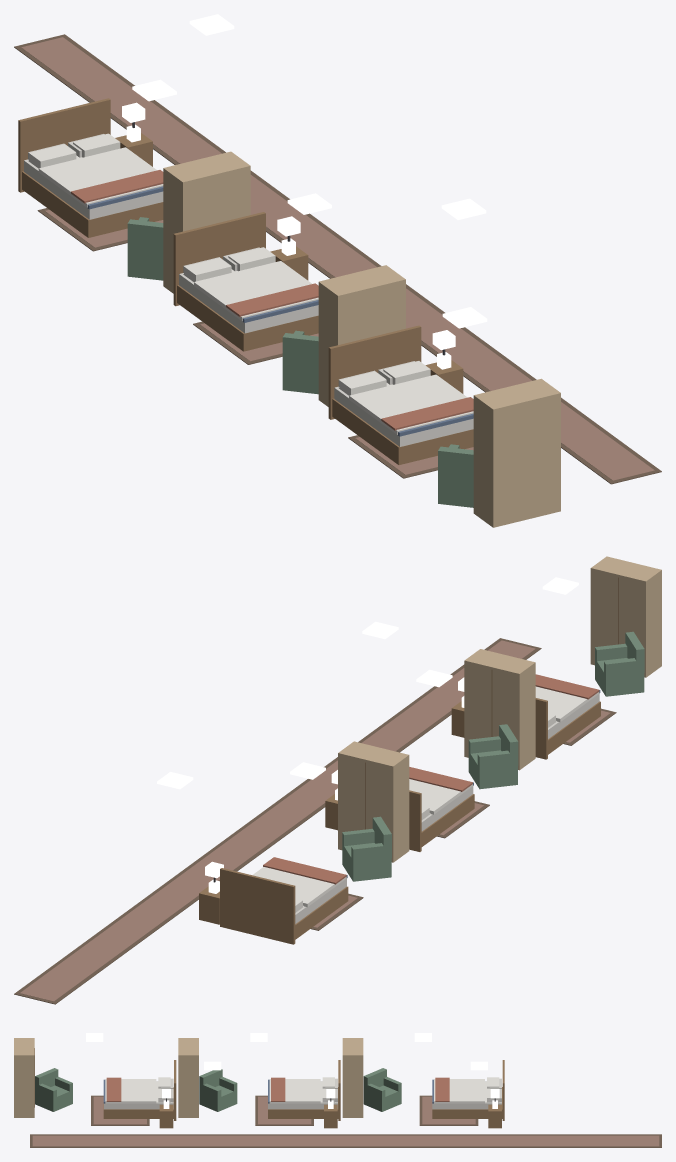
Rendered from fine-s1.glb.
3 views of the same model, one above another, from view 1: azimuth 30°, elevation 25°; view 2: azimuth 150°, elevation 25°; view 3: azimuth 270°, elevation 25° (orthographic). The views are drawn at different scales.
Visible parts, largest first — view 1: soft-s1, dresser.002, bed-frame.002, bed-frame.001, bed-frame.000, dresser.000, dresser.001, lounge-chair.001, lounge-chair.000, lounge-chair.002, nightstand.001, nightstand.002 (+1 smaller); view 2: soft-s1, dresser.002, dresser.000, dresser.001, bed-frame.000, lounge-chair.001, lounge-chair.000, lounge-chair.002, bed-frame.002, bed-frame.001, nightstand.000; view 3: soft-s1, dresser.000, dresser.001, dresser.002, lounge-chair.000, bed-frame.002, lounge-chair.001, lounge-chair.002, bed-frame.001, bed-frame.000, nightstand.002, nightstand.000 (+1 smaller).
Boxes of the visible parts, x1,y1,x2,y2 form: soft-s1: (14, 34, 661, 484); dresser.002: (473, 378, 560, 527); bed-frame.002: (328, 325, 473, 464); bed-frame.001: (173, 212, 318, 351); bed-frame.000: (18, 98, 163, 237); dresser.000: (163, 151, 250, 293); dresser.001: (318, 265, 405, 406); lounge-chair.001: (282, 330, 318, 394); lounge-chair.000: (127, 217, 163, 280); lounge-chair.002: (438, 444, 473, 507); nightstand.001: (270, 238, 308, 280); nightstand.002: (425, 352, 463, 393); soft-s1: (14, 638, 616, 1004); dresser.002: (590, 556, 661, 677); dresser.000: (338, 741, 409, 862); dresser.001: (464, 649, 535, 770); bed-frame.000: (220, 868, 348, 944); lounge-chair.001: (468, 724, 518, 789); lounge-chair.000: (342, 816, 391, 881); lounge-chair.002: (595, 631, 644, 696); bed-frame.002: (535, 690, 600, 759); bed-frame.001: (409, 782, 474, 851); nightstand.000: (199, 879, 219, 924); soft-s1: (30, 1077, 661, 1147); dresser.000: (342, 1038, 363, 1117); dresser.001: (178, 1038, 198, 1117); dresser.002: (14, 1038, 34, 1117); lounge-chair.000: (363, 1068, 401, 1111); bed-frame.002: (103, 1060, 176, 1120); lounge-chair.001: (199, 1069, 237, 1111); lounge-chair.002: (35, 1068, 72, 1111); bed-frame.001: (268, 1060, 340, 1120); bed-frame.000: (432, 1060, 504, 1120); nightstand.002: (159, 1100, 173, 1128); nightstand.000: (488, 1100, 501, 1128).
Bounding box in the file's own units: 3.55 × 2.44 × 18.76.
